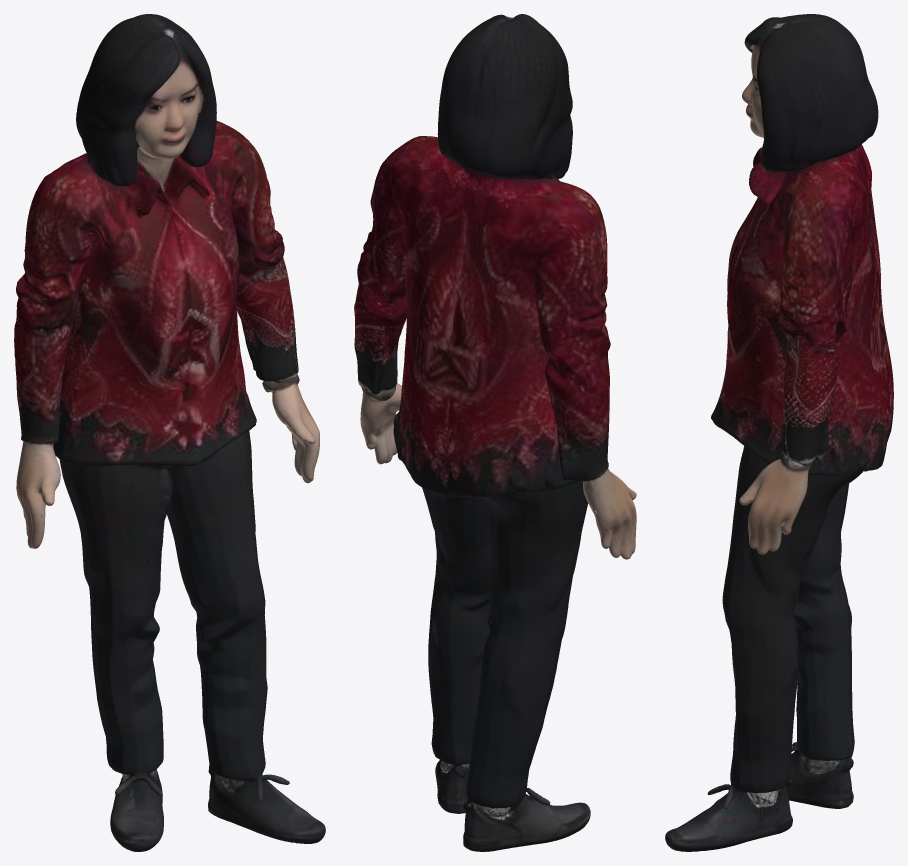
The model's file is cewek_batik_lain_idle.glb.
3 renders of one model, left to right at view 1: azimuth 30°, elevation 25°; view 2: azimuth 150°, elevation 25°; view 3: azimuth 270°, elevation 25°, orthographic. The views are drawn at different scales.
Parts seen in each view (by area): view 1: tripo_node_2c1b2557-00a5-4bd0-a920-2a98aa71956e; view 2: tripo_node_2c1b2557-00a5-4bd0-a920-2a98aa71956e; view 3: tripo_node_2c1b2557-00a5-4bd0-a920-2a98aa71956e.
Boxes of the visible parts, x1,y1,x2,y2 form: tripo_node_2c1b2557-00a5-4bd0-a920-2a98aa71956e: [14, 14, 325, 851]; tripo_node_2c1b2557-00a5-4bd0-a920-2a98aa71956e: [354, 14, 636, 851]; tripo_node_2c1b2557-00a5-4bd0-a920-2a98aa71956e: [665, 14, 893, 851].
Size of the model in its own units: 35.16 by 97.28 by 25.74.
Materials: 1 (1 with a texture image).
